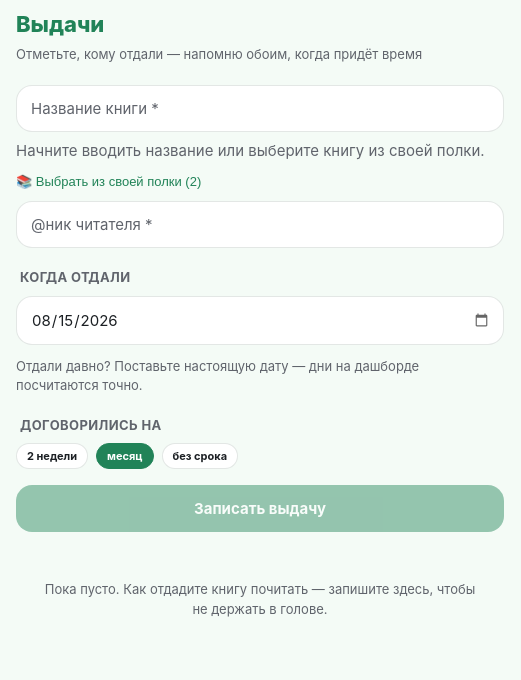
Test: подсказка с полки в форме выдачи › список полки скрыт до ввода и появляется, когда начинаешь печатать
Expected: the text "С вашей полки" is not shown
Type "сол" into the field with placeholder "Название книги *" at [260, 108], box [16, 84, 504, 132]
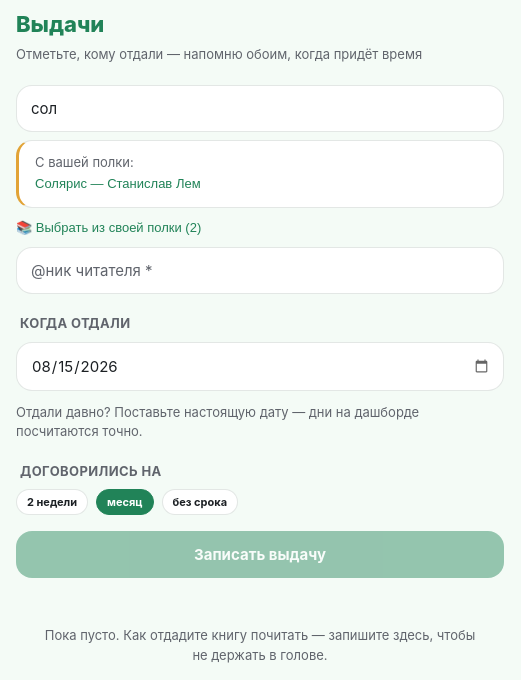
Result: the text "С вашей полки: Солярис — Станислав Лем" is shown at [16, 140, 504, 208]
Result: the button "Солярис — Станислав Лем" is shown at [35, 172, 487, 195]
